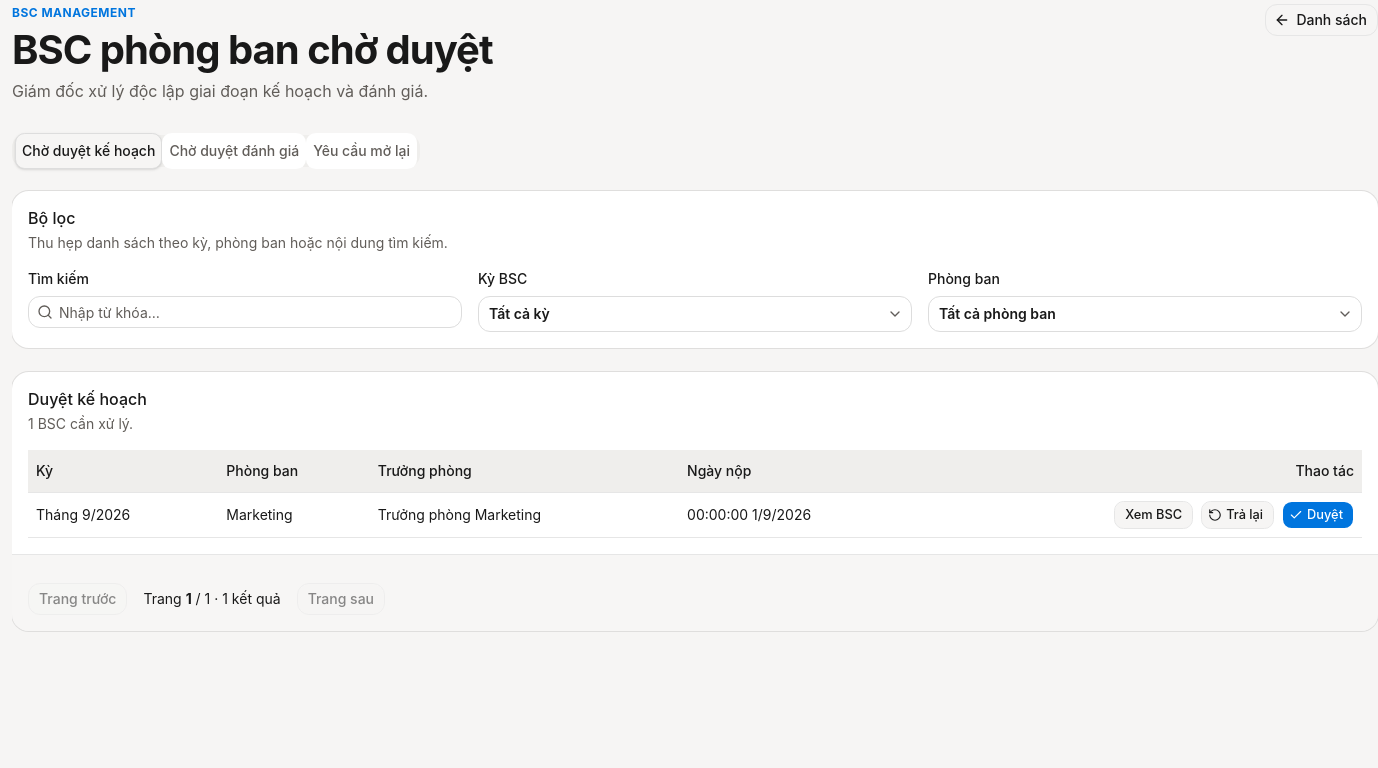
Scenario: DepartmentBscPendingReviewPage › uses backend capabilities for reopen-request actions
The width and height of the screenshot is (1378, 768).
Click the tab "Yêu cầu mở lại".
click(362, 151)  # box [306,133,417,169]
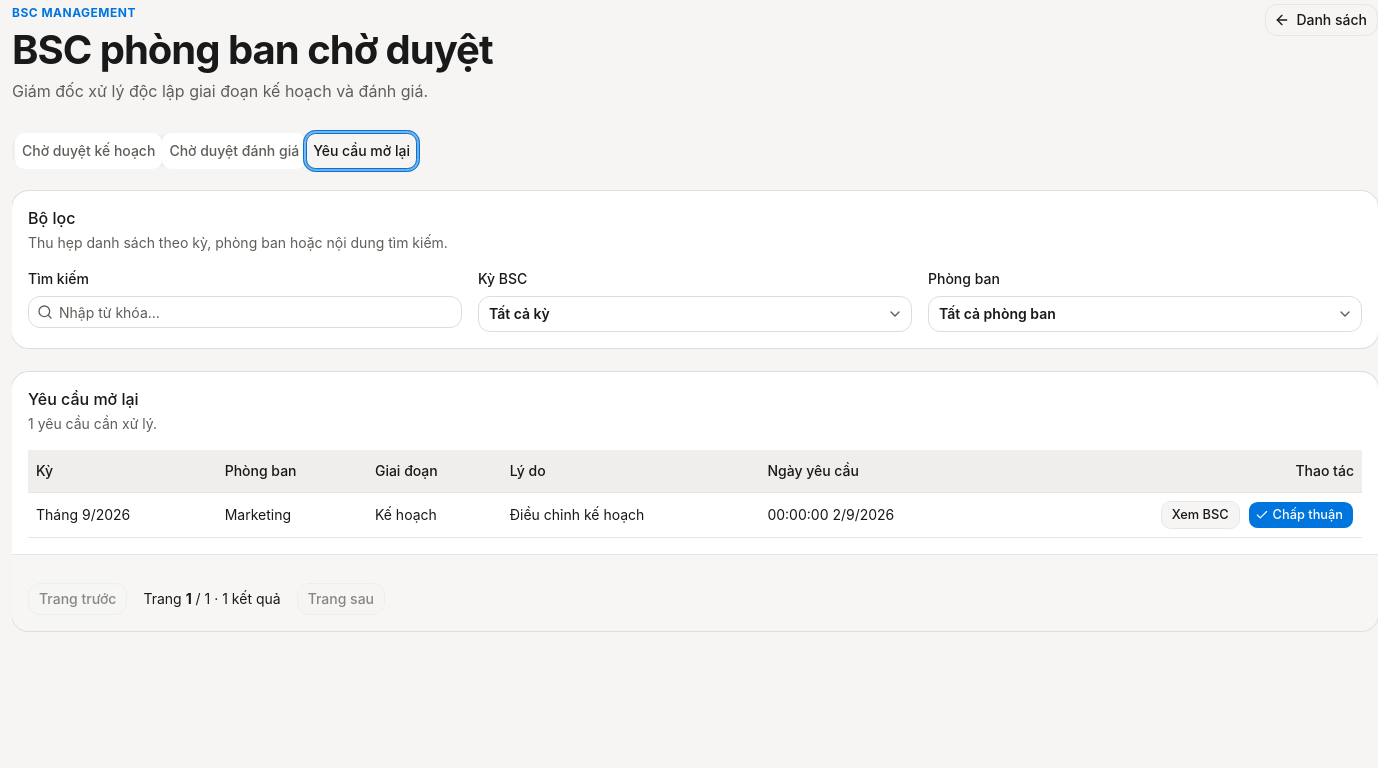
Check: the button "Chấp thuận" is shown, box [1248,501,1354,529]
